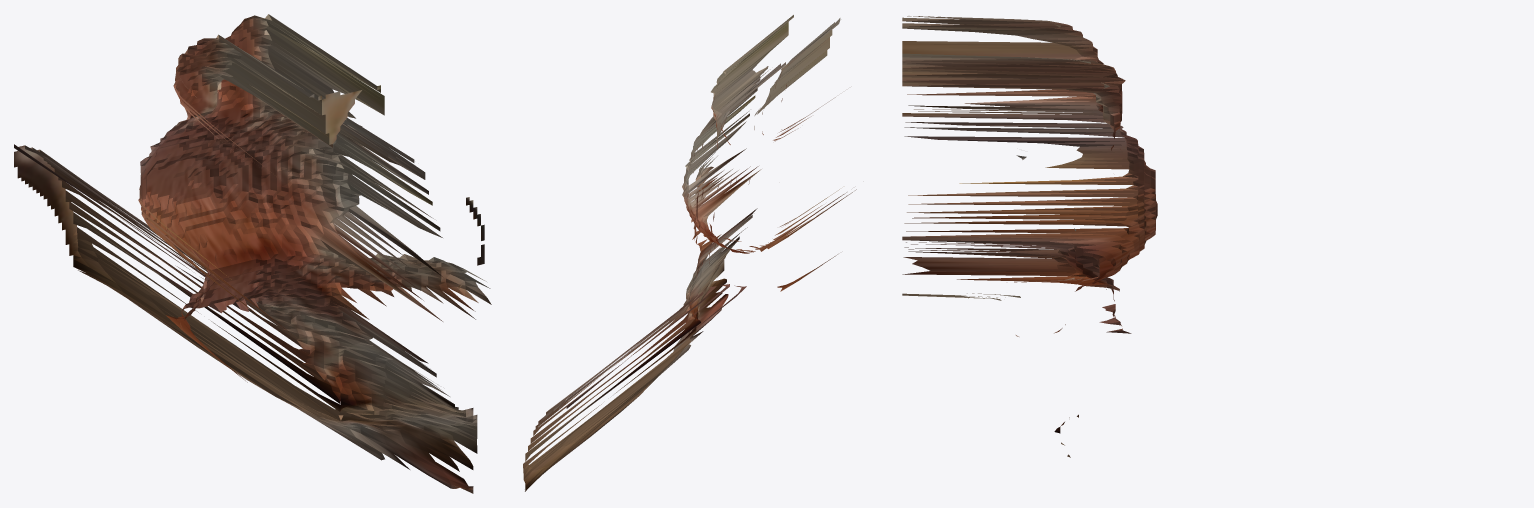
File: frame_00328.glb
3 renders of one model, left to right at view 1: azimuth 30°, elevation 25°; view 2: azimuth 150°, elevation 25°; view 3: azimuth 270°, elevation 25°, orthographic. The views are drawn at different scales.
Visible parts, largest first — view 1: geometry_0; view 2: geometry_0; view 3: geometry_0.
Boxes of the visible parts, bbox=[...] form: geometry_0: bbox=[14, 14, 491, 493]; geometry_0: bbox=[523, 15, 856, 491]; geometry_0: bbox=[902, 16, 1157, 457].
Bounding box in the file's own units: 0.0614 × 0.1174 × 0.16.
1 material, 1 textured.
